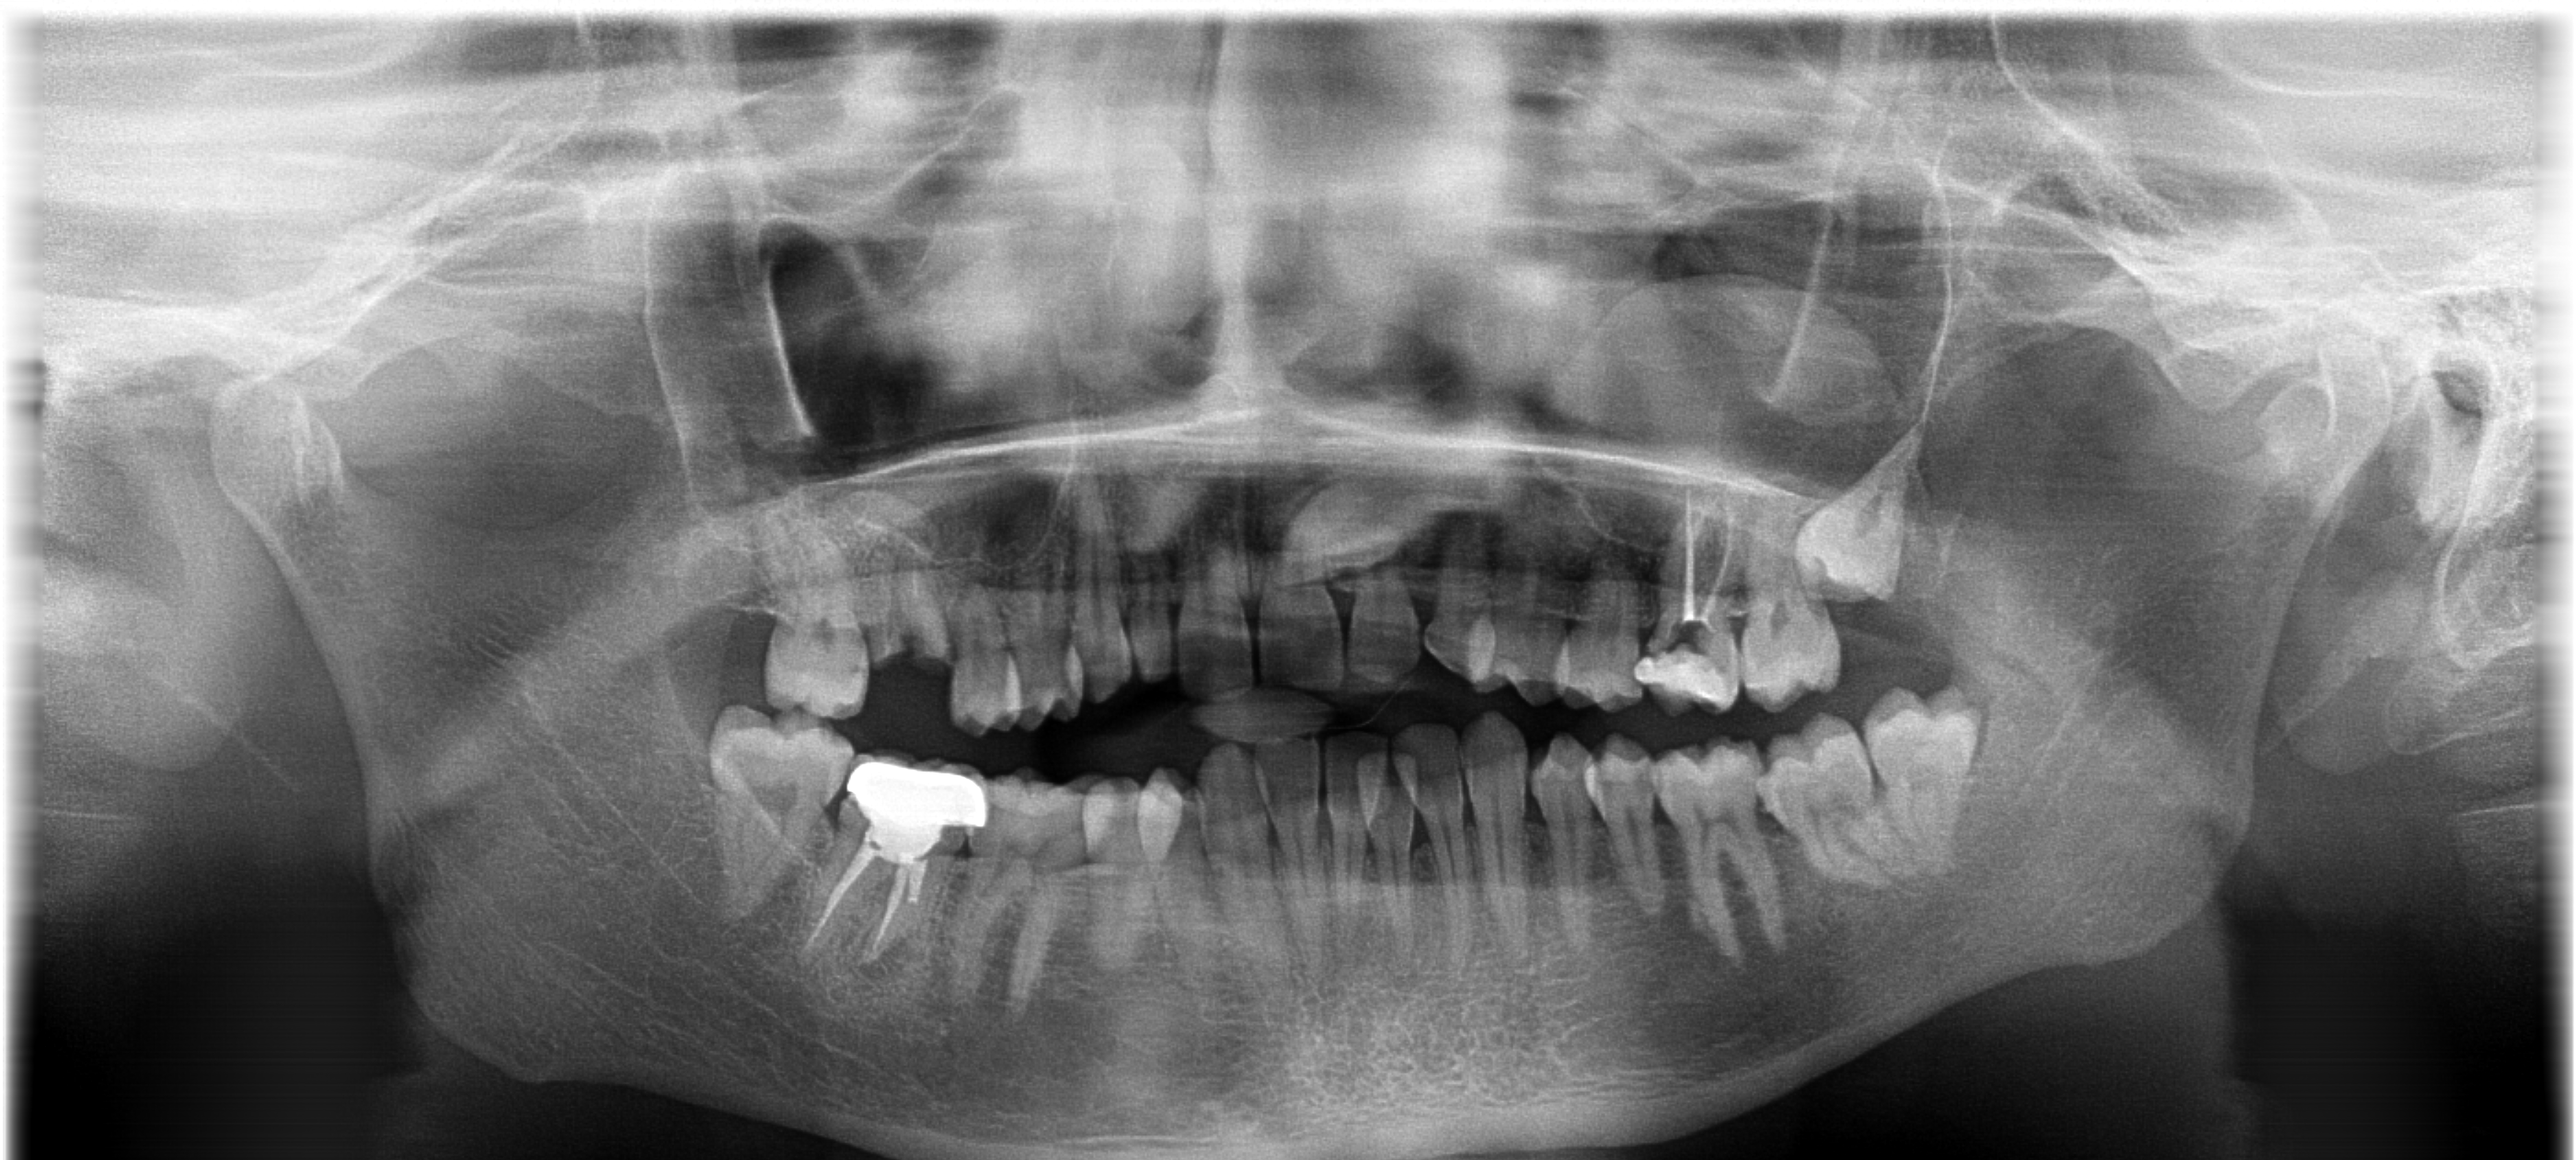cordal: (1774, 403, 1958, 634), (697, 697, 858, 932), (1856, 670, 2021, 894), (731, 509, 879, 738)
enanismo_radicular: (856, 544, 959, 703)
tratamiento_conducto: (813, 720, 986, 986), (1623, 480, 1766, 713)
